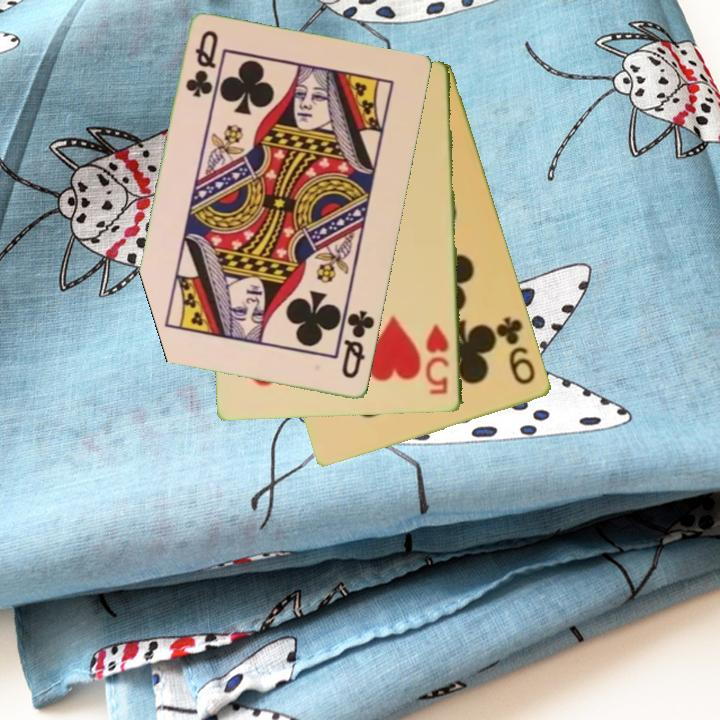5h: (423, 320, 453, 398)
9c: (493, 313, 539, 388)
Qc: (338, 307, 378, 382), (182, 27, 222, 101)
